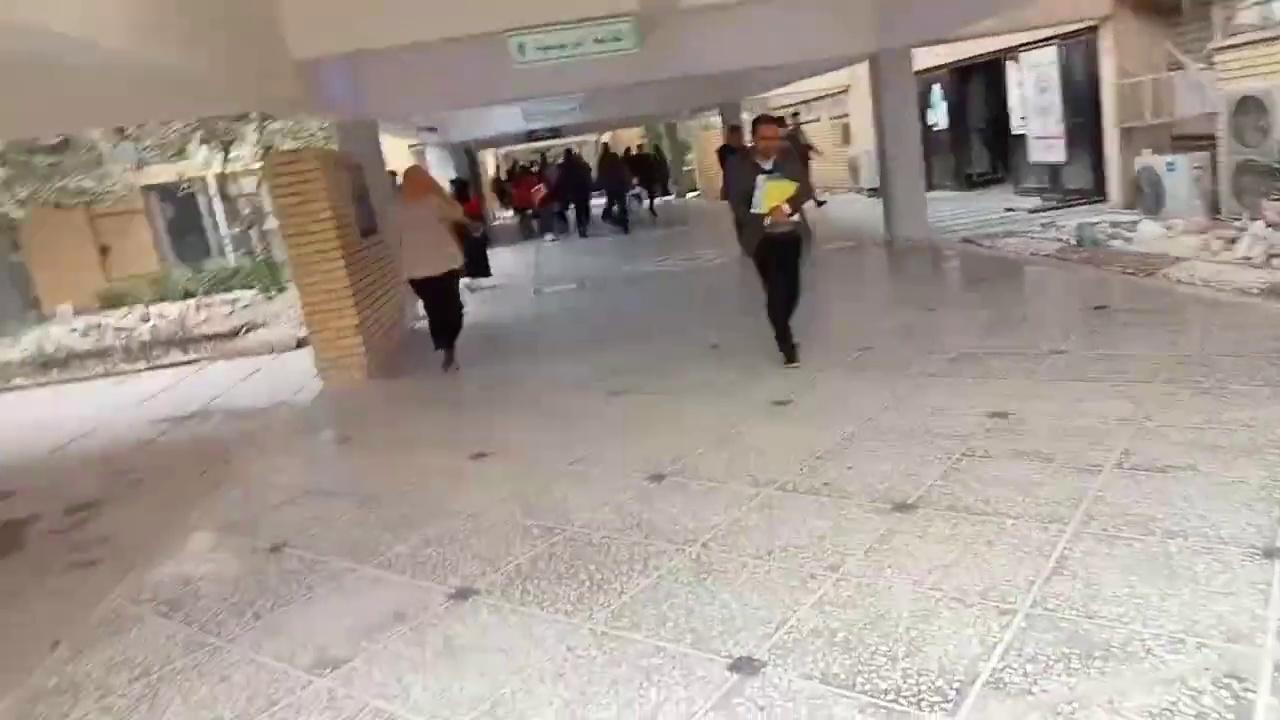person: (723, 113, 813, 367), (396, 163, 474, 371)
